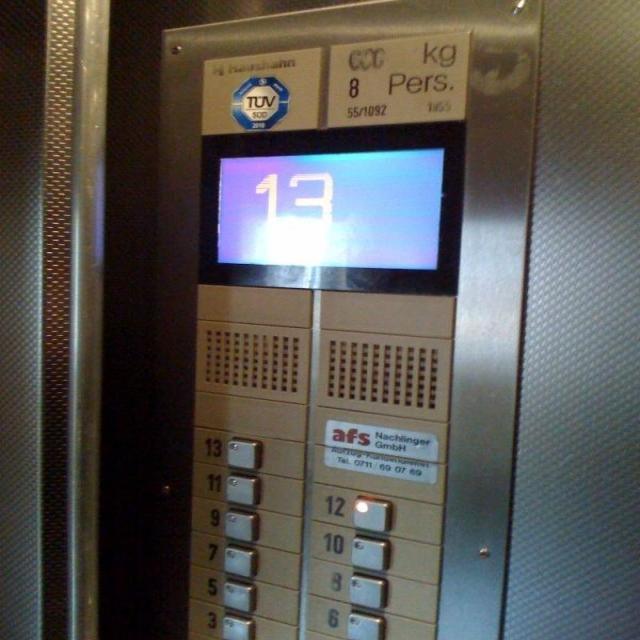10: (320, 526, 393, 572)
11: (202, 464, 264, 502)
12: (320, 485, 394, 533)
13: (202, 426, 264, 472)
3: (202, 606, 262, 639)
5: (202, 570, 264, 612)
6: (320, 602, 393, 639)
7: (202, 536, 262, 578)
8: (320, 566, 393, 610)
9: (202, 502, 262, 544)
led: (194, 115, 466, 298)
